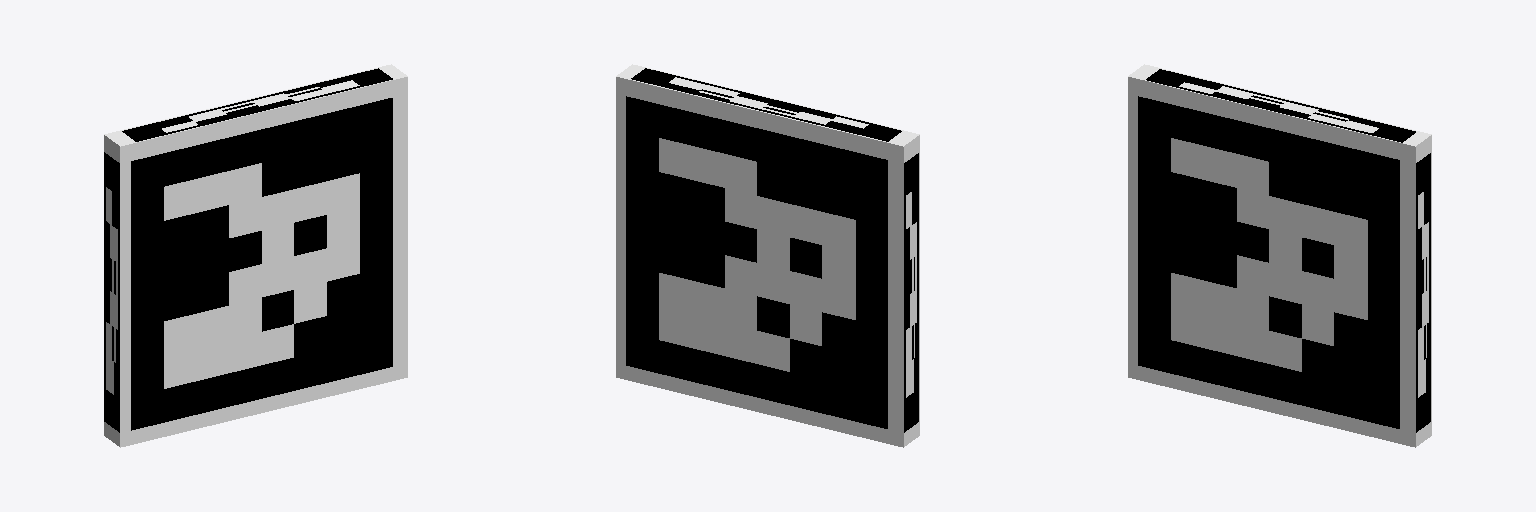
The picture shows the model from 3 angles: view 1: azimuth 30°, elevation 25°; view 2: azimuth 150°, elevation 25°; view 3: azimuth 330°, elevation 25°; orthographic projection.
Visible parts, largest first — view 1: Cube; view 2: Cube; view 3: Cube.
Boxes of the visible parts, box(x1,y1,x2,y2) form: Cube: box(104, 64, 407, 447); Cube: box(616, 64, 919, 447); Cube: box(1128, 64, 1431, 447).
Size of the model in its own units: 2 by 2 by 0.2.
Materials: 1 (1 with a texture image).